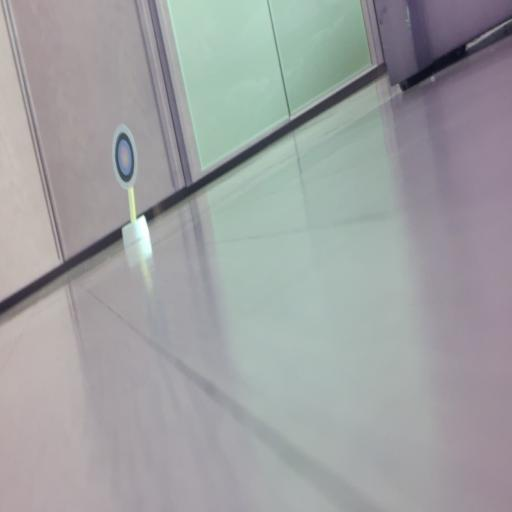target: (112, 124, 138, 190)
